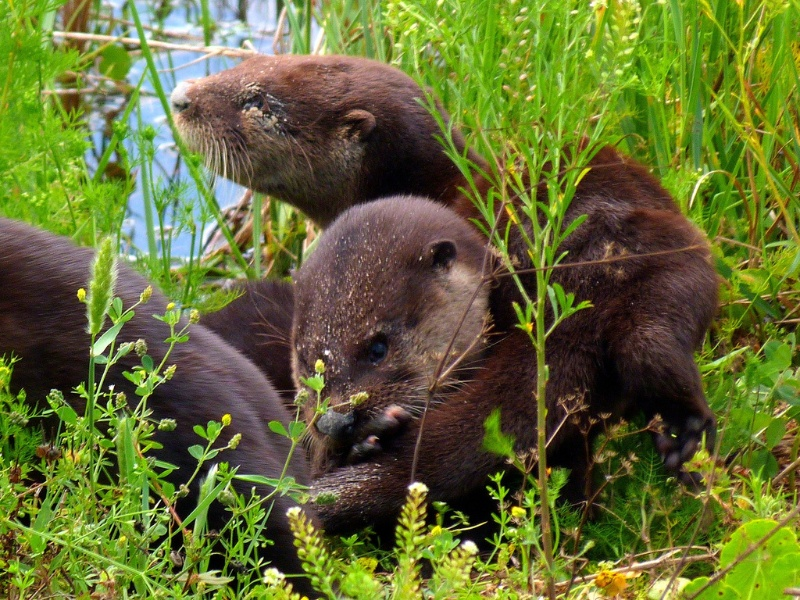minkish: (290, 198, 485, 455), (158, 52, 451, 208)
